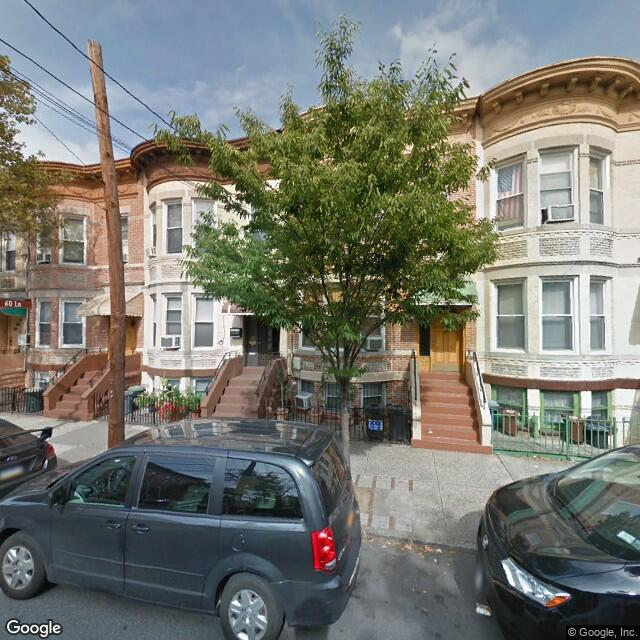litter: (464, 596, 493, 620)
